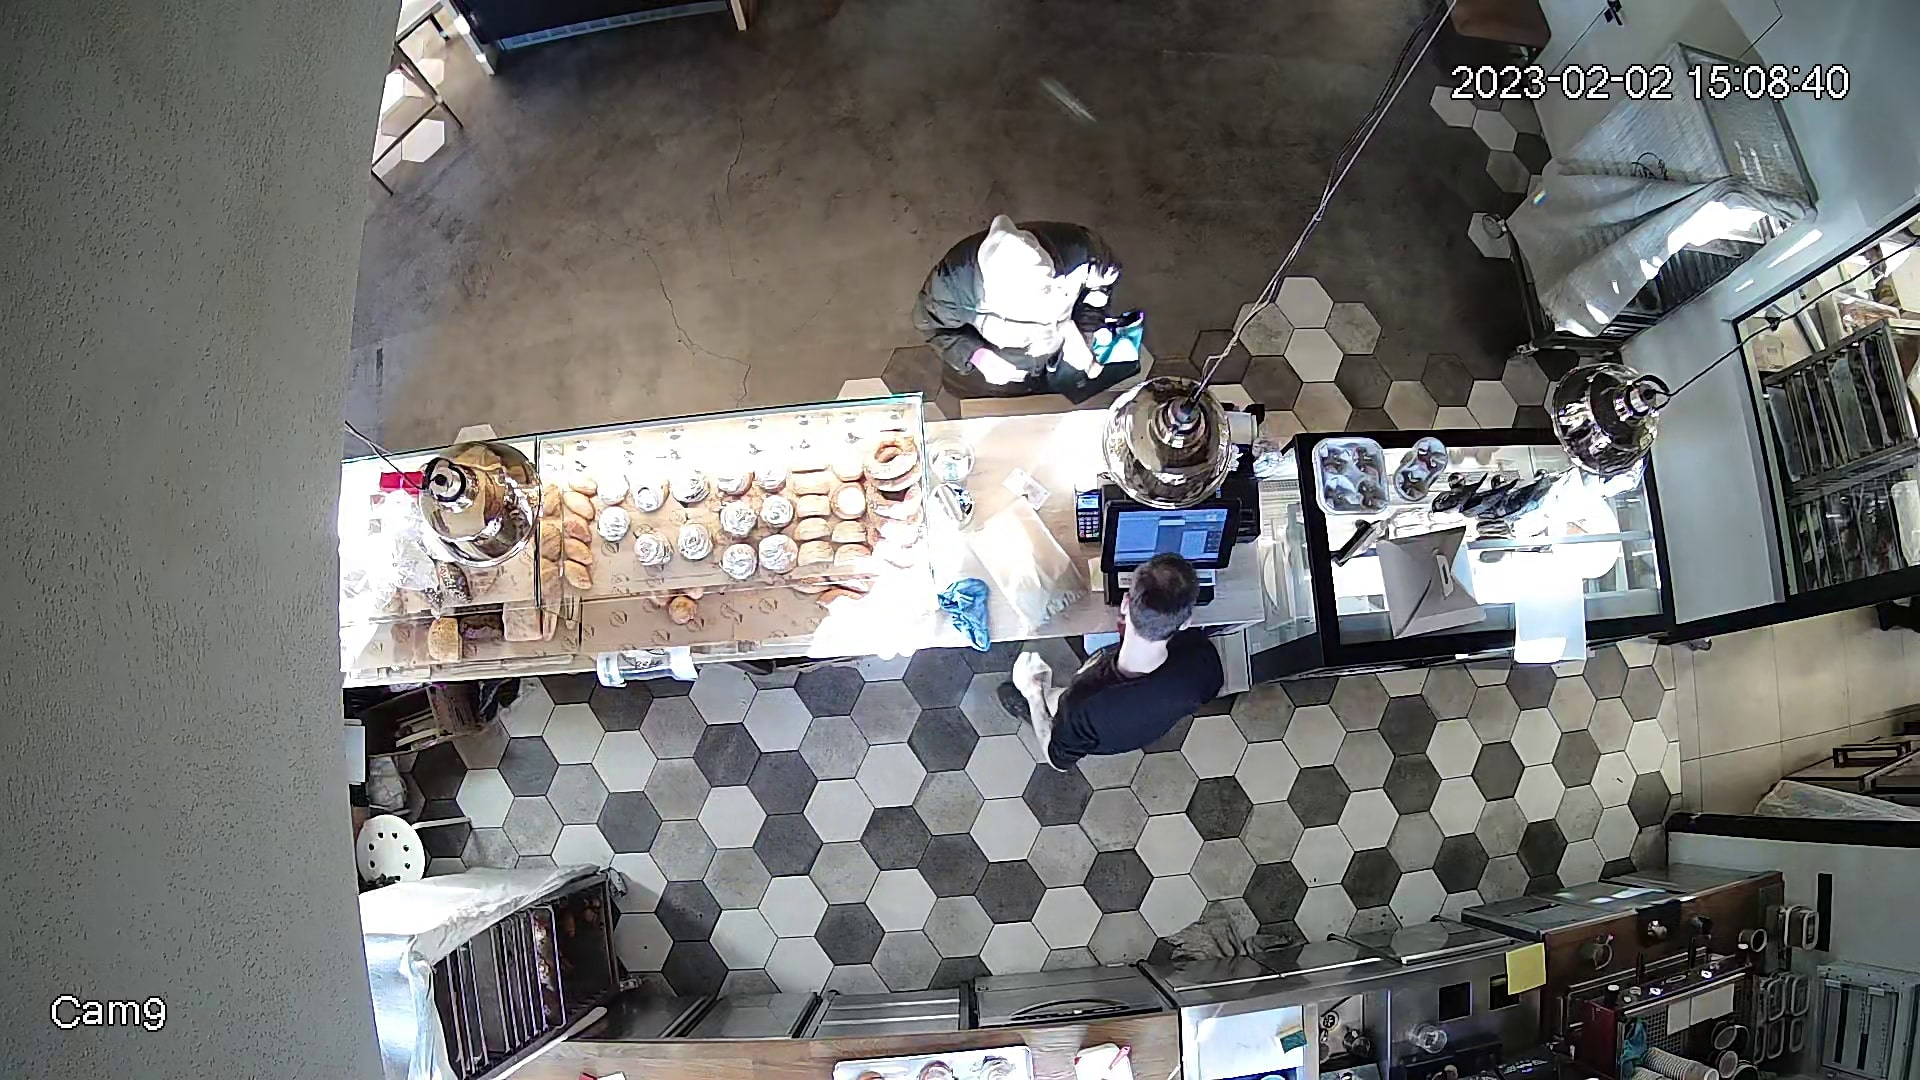barcounter: (360, 431, 1698, 671)
pack: (969, 498, 1079, 624)
person: (905, 222, 1152, 398), (1045, 584, 1237, 769)
